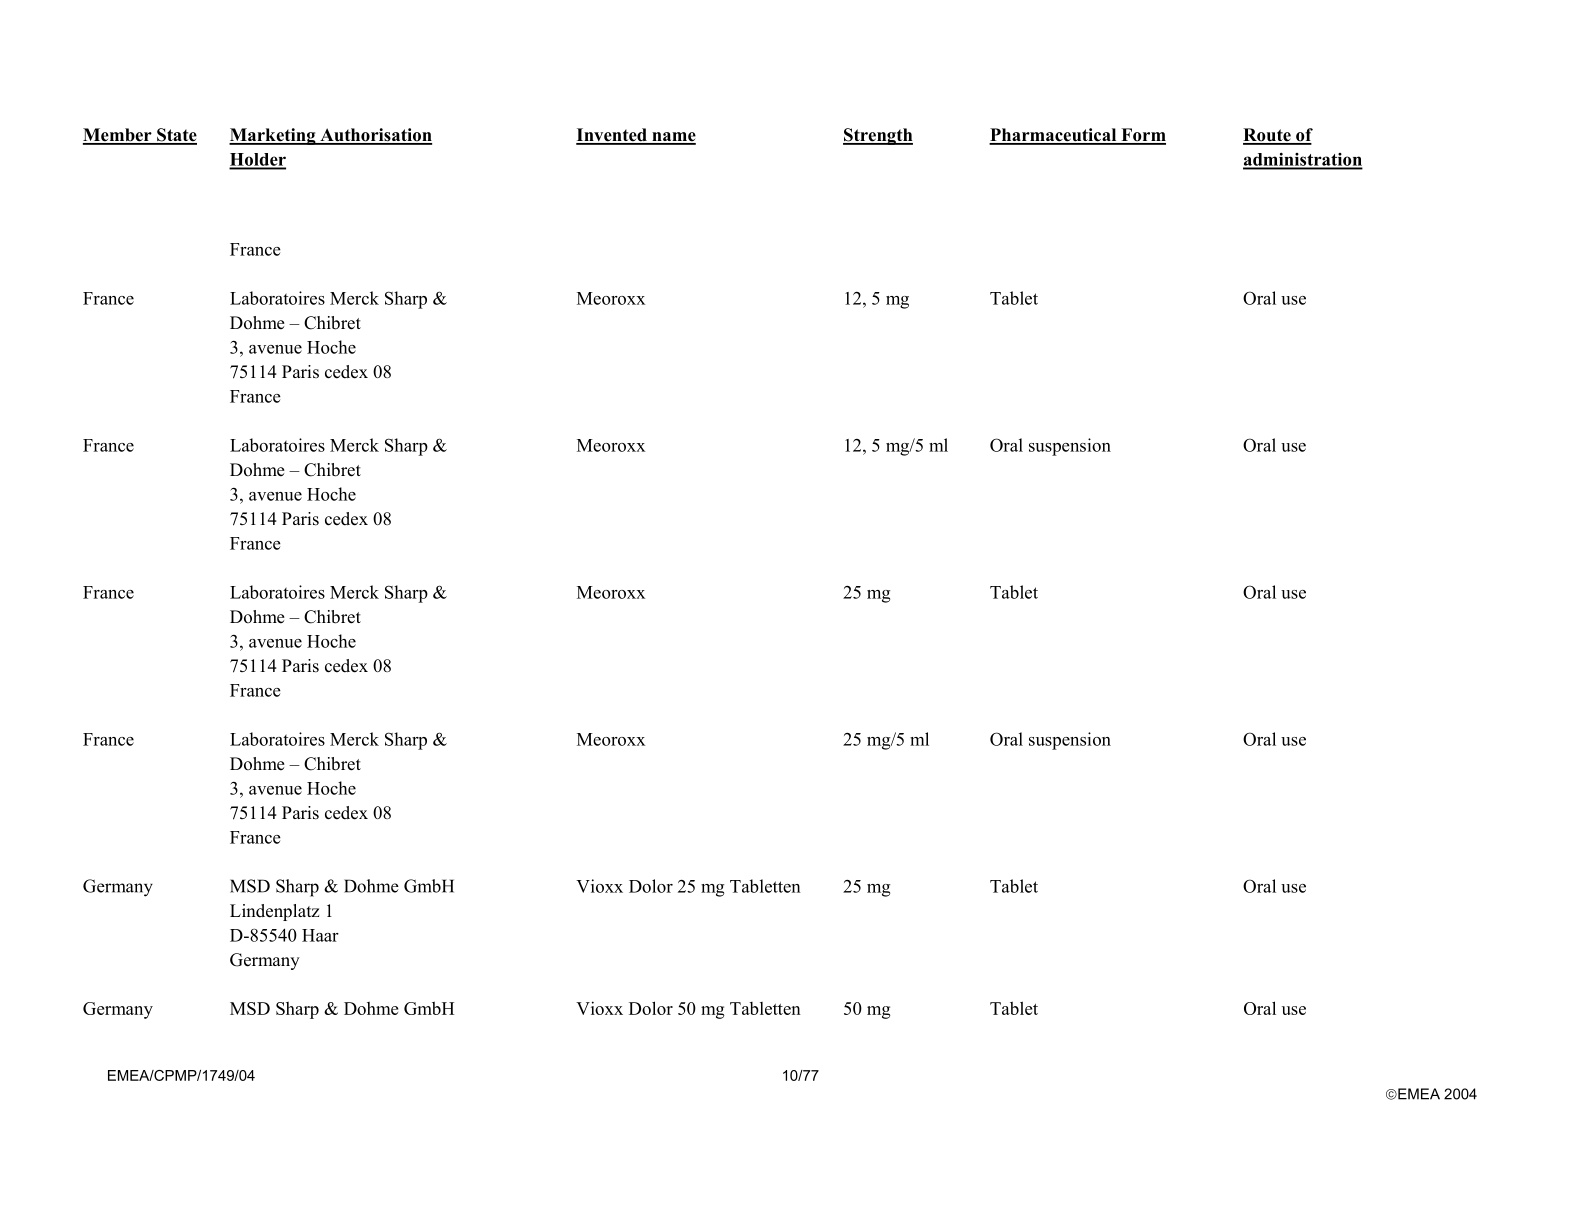nolines: (81, 123, 1365, 1023)
